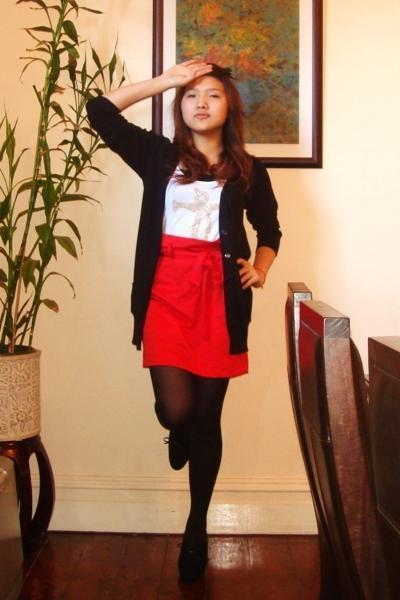jacket: (84, 91, 311, 354)
shirt: (163, 162, 222, 241)
shoe: (165, 427, 203, 582)
skirt: (132, 228, 247, 383)
